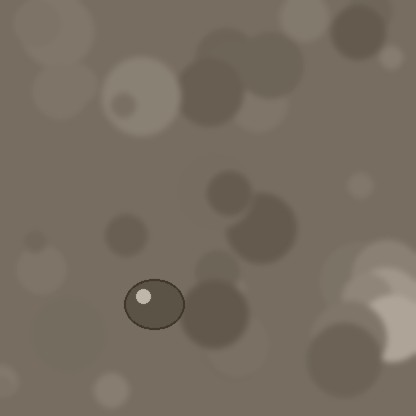gota: (124, 281, 184, 333)
